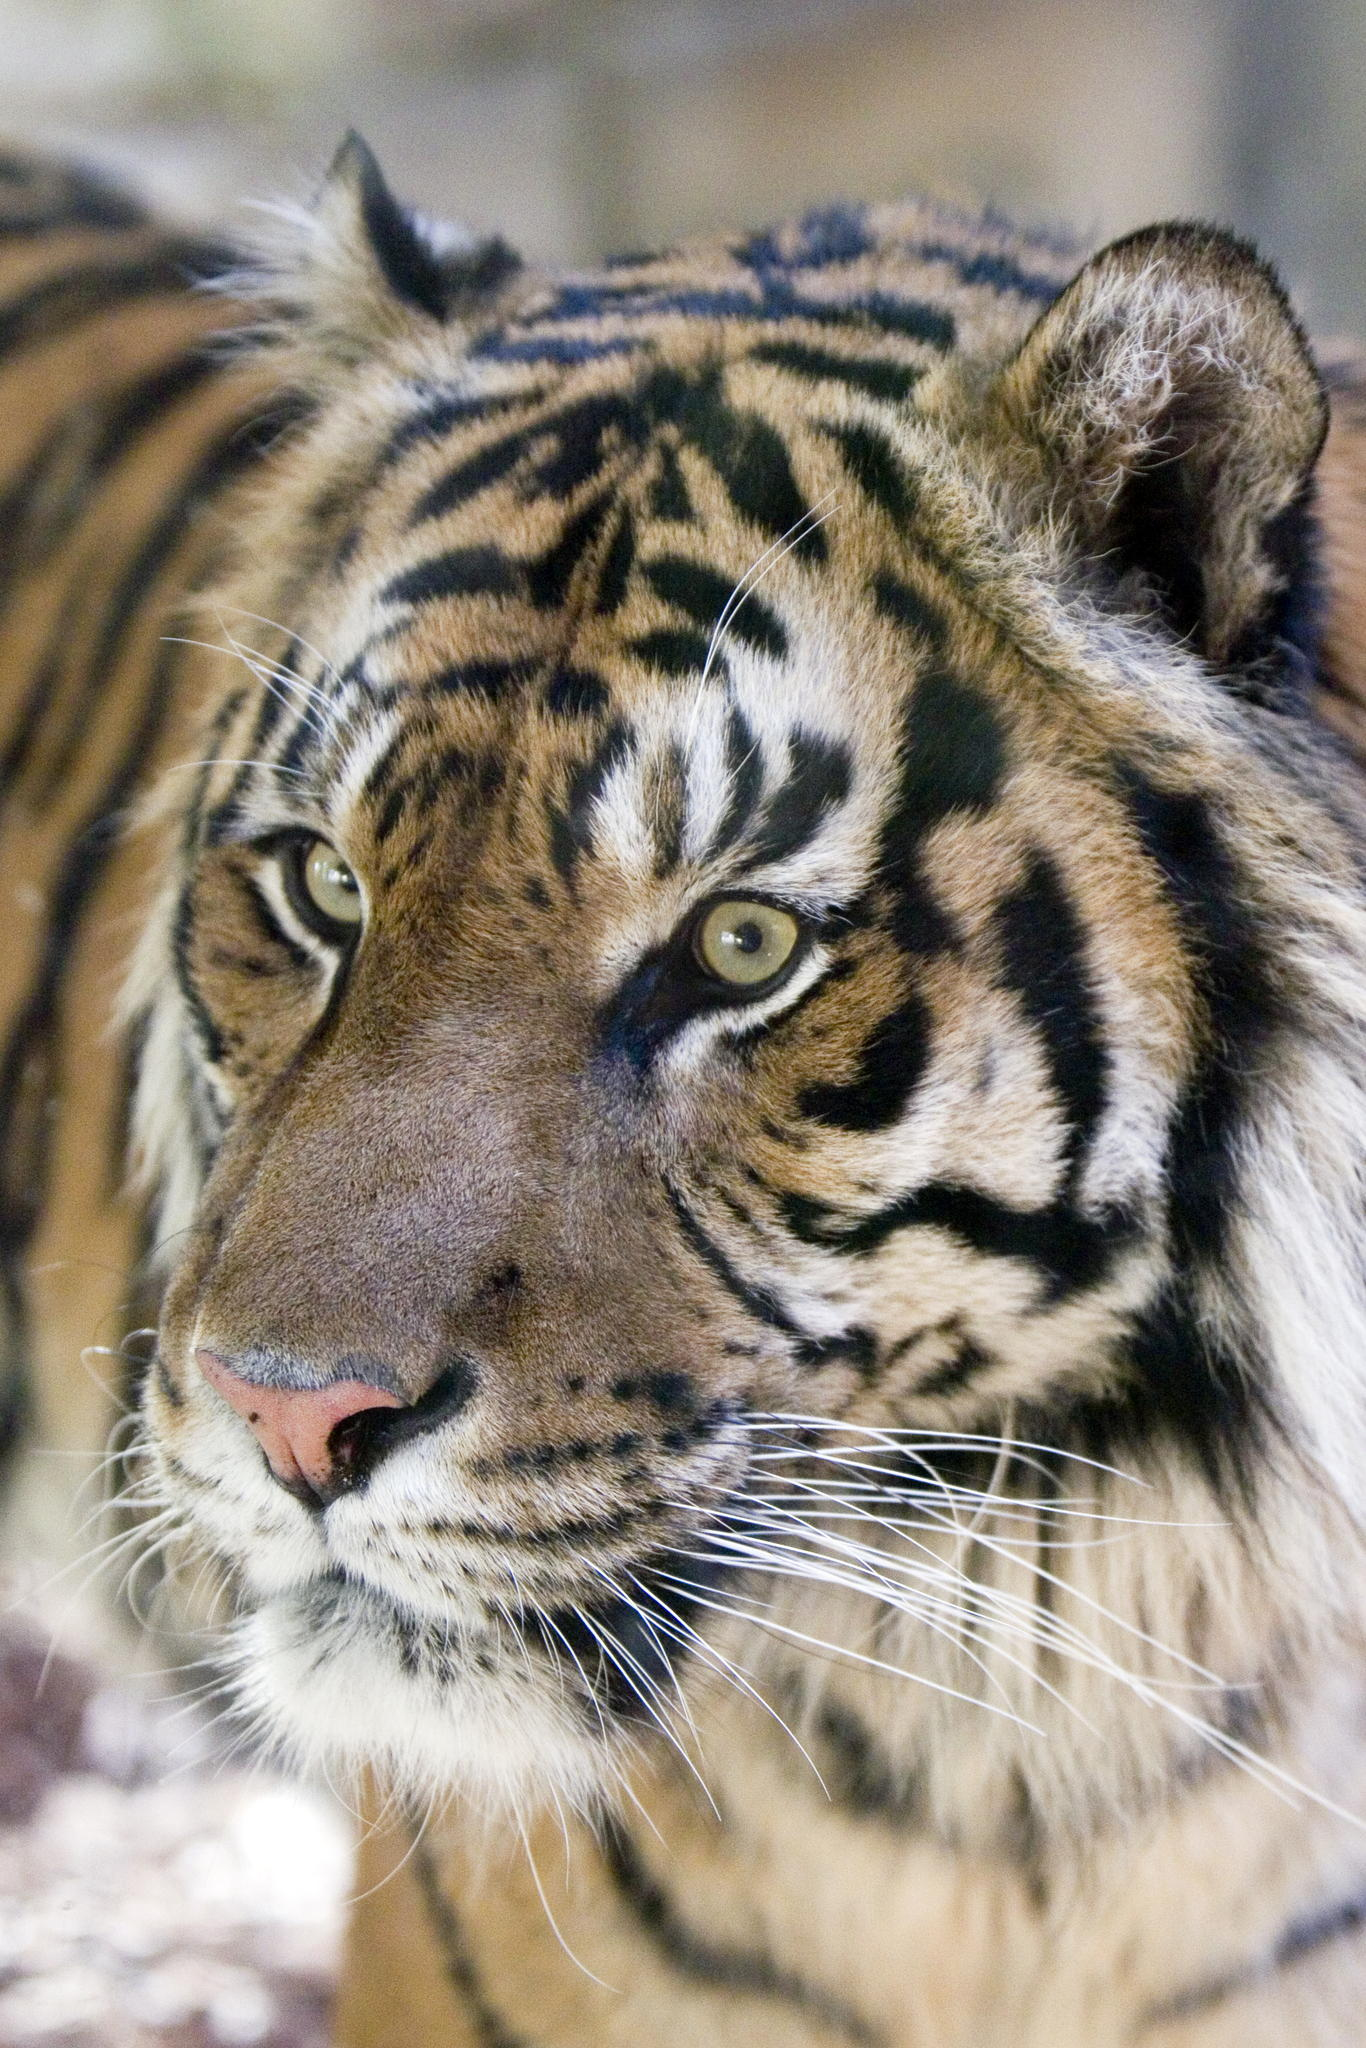tiger: (139, 168, 1294, 1996)
